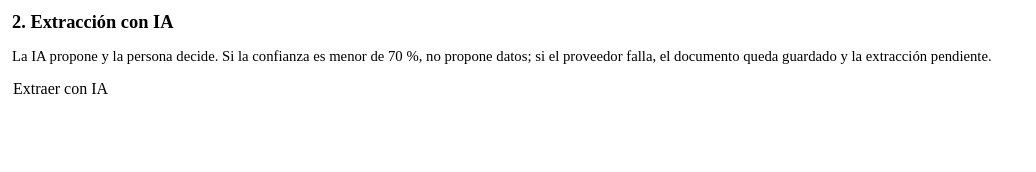
ExtraccionesSection › muestra el error de la API al fallar la solicitud
Click the button "Extraer con IA" at x=61, y=89, box [12, 79, 109, 99]
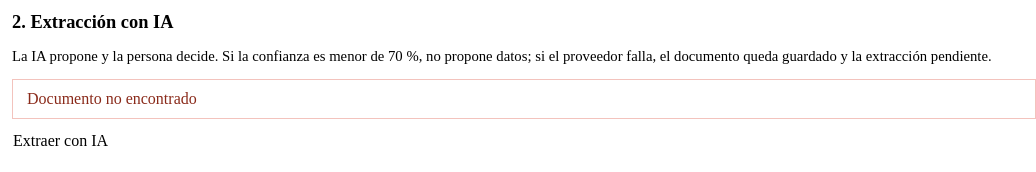
Check: the message reads "Documento no encontrado", box [27, 90, 197, 107]
